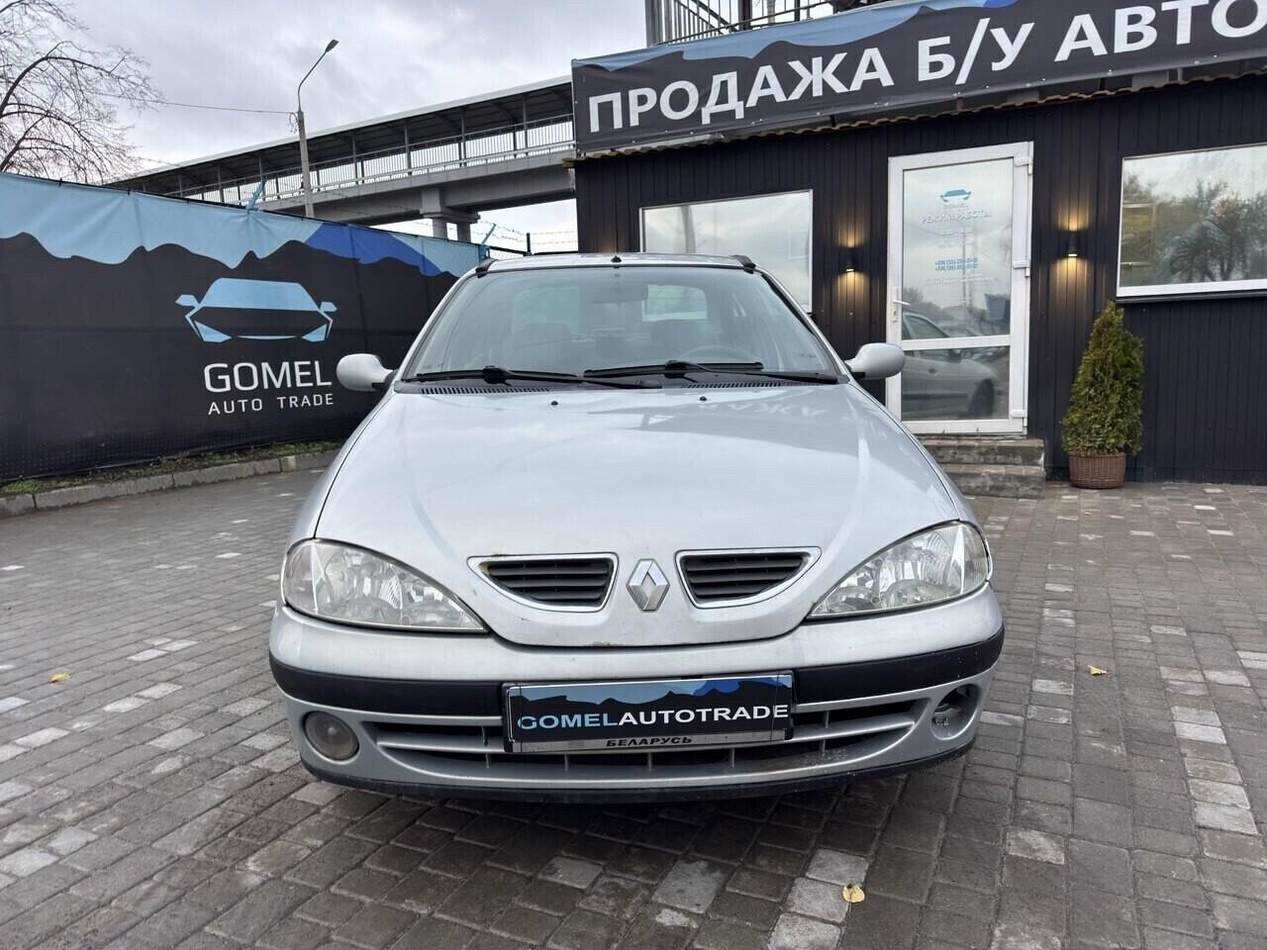Megane_1999-2003: (271, 244, 996, 785)
